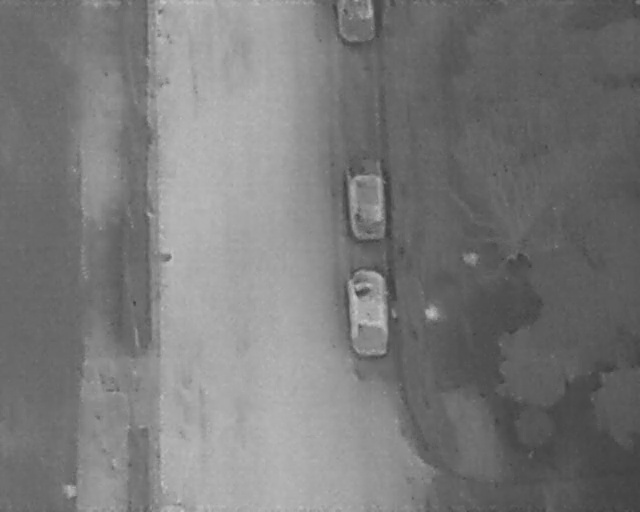Car: (344, 264, 393, 362), (345, 157, 389, 242), (335, 0, 377, 44)
